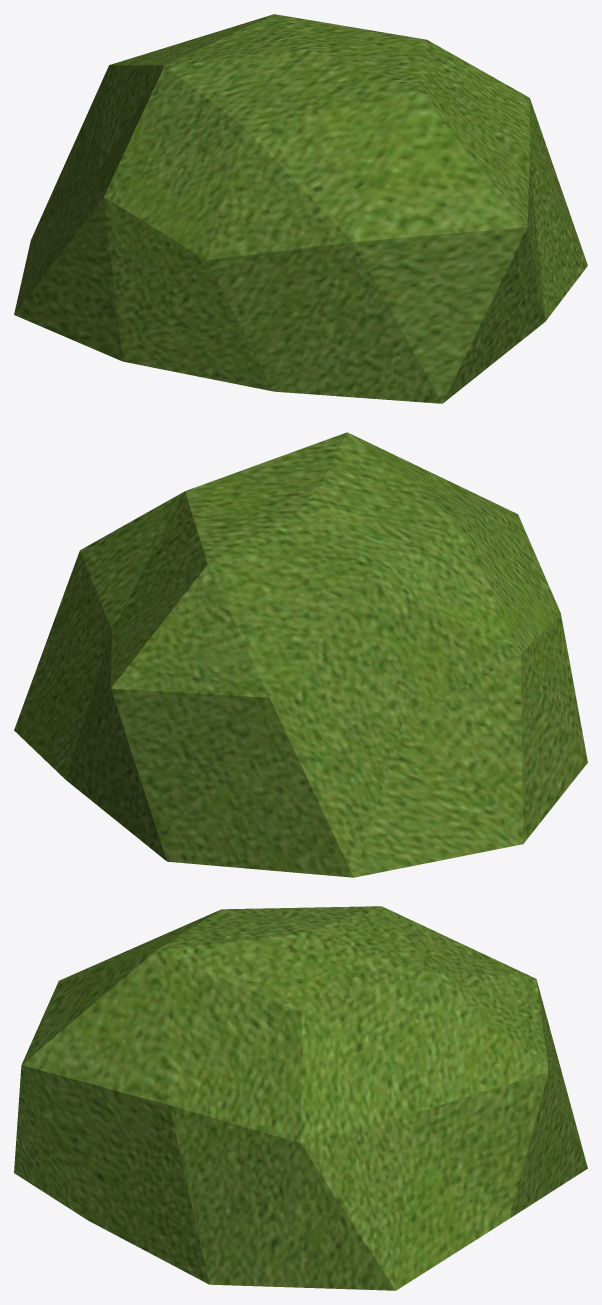
The model's file is teiboku.obj.
The picture shows the model from 3 angles, top to bottom: view 1: azimuth 30°, elevation 25°; view 2: azimuth 150°, elevation 25°; view 3: azimuth 270°, elevation 25°; orthographic projection. The views are drawn at different scales.
Parts seen in each view (by area): view 1: ICO球; view 2: ICO球; view 3: ICO球.
Boxes of the visible parts, bbox=[...] form: ICO球: bbox=[14, 14, 587, 403]; ICO球: bbox=[14, 432, 587, 877]; ICO球: bbox=[14, 906, 587, 1290].
Size of the model in its own units: 2.12 by 1.03 by 2.19.
1 material, 1 textured.
